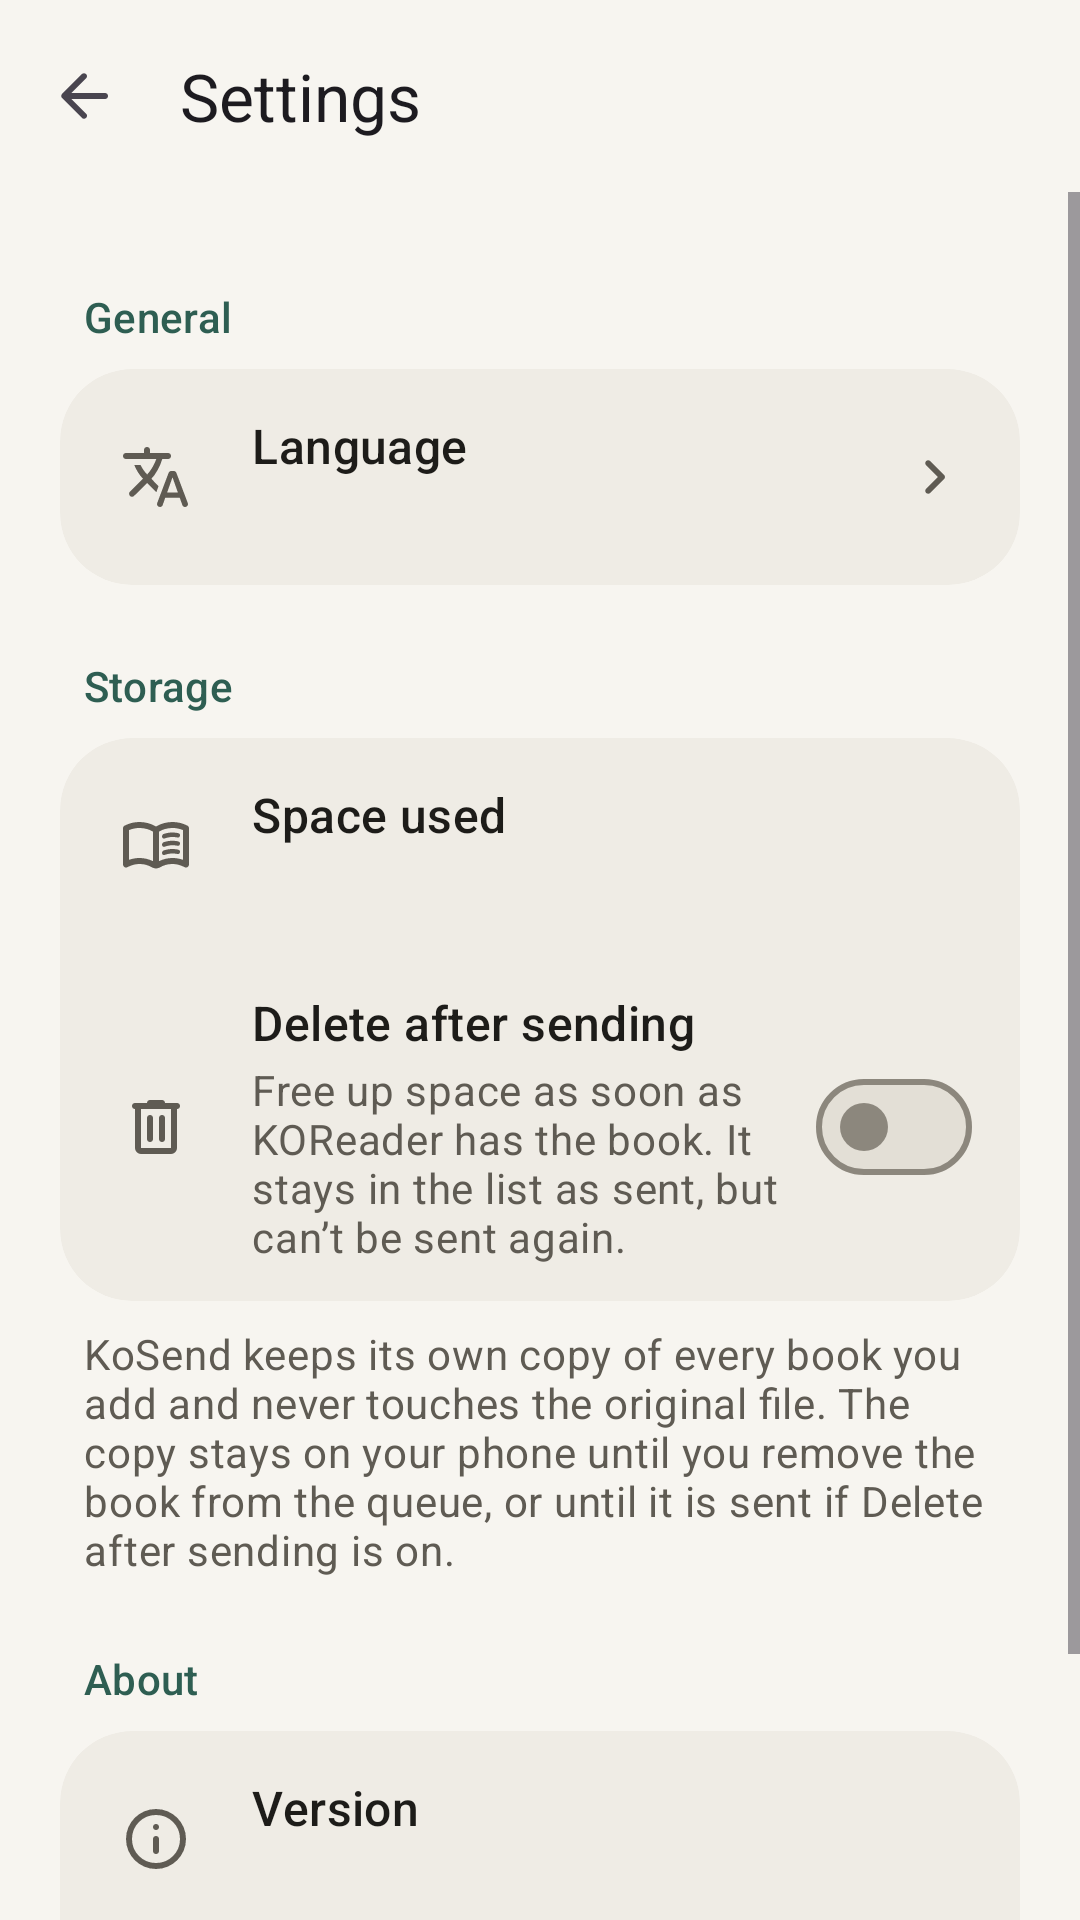

Where icons sit on this 1080px x 1920px app screen, as (x1, y1, x2, y2):
book: (123, 822, 189, 869)
chevron right: (925, 460, 945, 494)
info: (126, 1809, 186, 1869)
translate: (123, 447, 188, 507)
